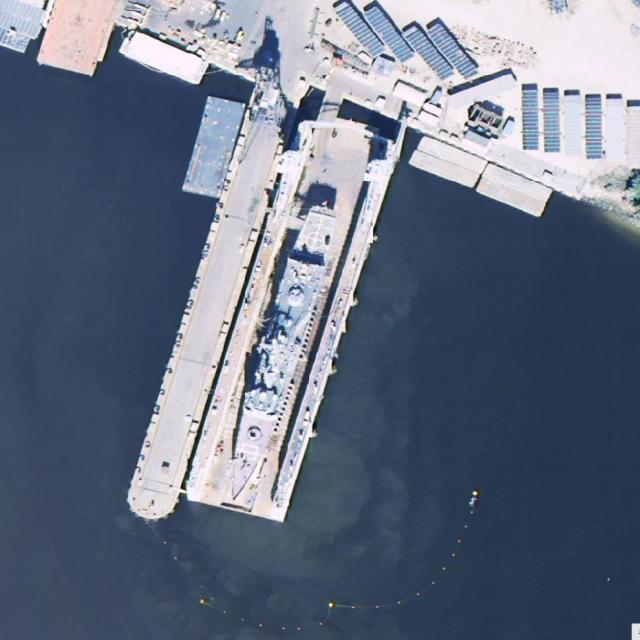Dock: (125, 81, 300, 522)
Frigate: (217, 200, 342, 509)
